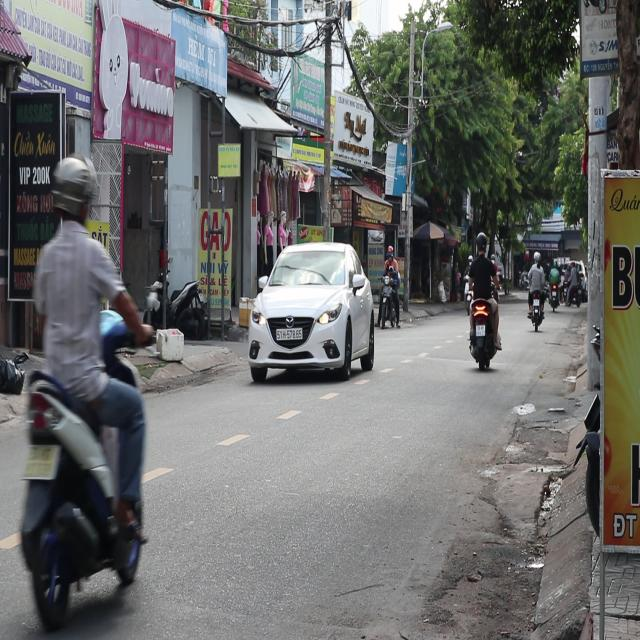helmet: (48, 152, 97, 228)
licenseplate: (12, 149, 150, 627)
nohelmet: (23, 444, 61, 479)
